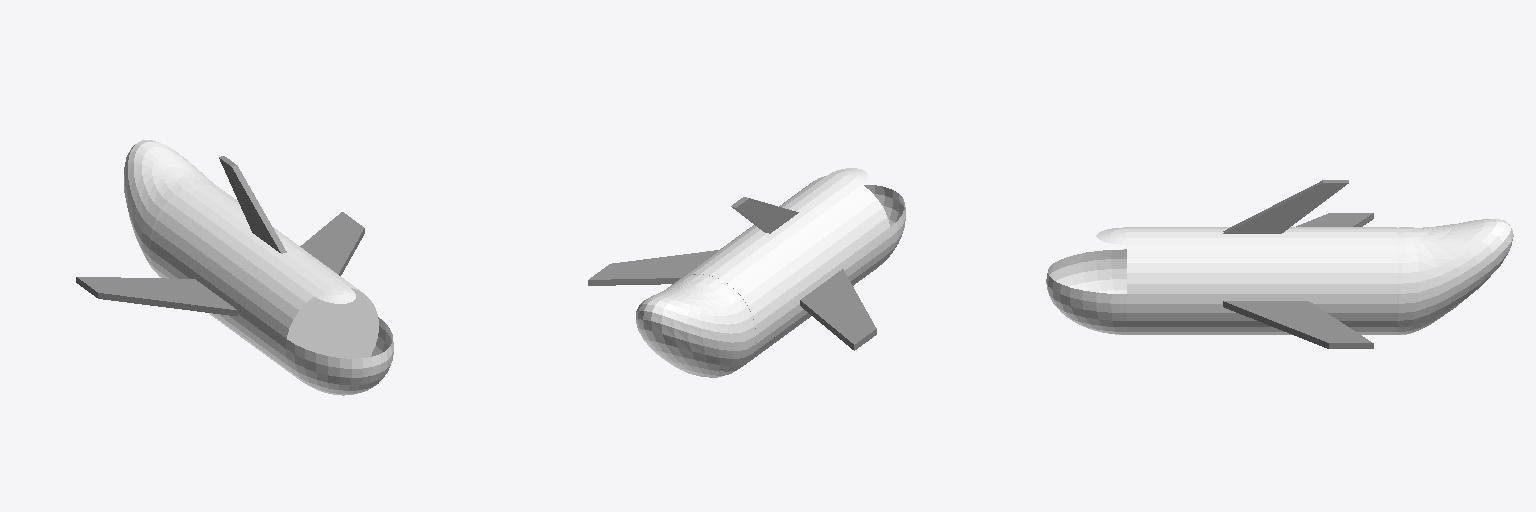
3 renders of one model, left to right at view 1: azimuth 30°, elevation 25°; view 2: azimuth 150°, elevation 25°; view 3: azimuth 270°, elevation 25°, orthographic.
Parts seen in each view (by area): view 1: CruiserBody_Cube.001; view 2: CruiserBody_Cube.001; view 3: CruiserBody_Cube.001.
Part boxes in pixels (left/top/right/bottom): CruiserBody_Cube.001: left=76, top=140, right=393, bottom=395; CruiserBody_Cube.001: left=588, top=168, right=905, bottom=377; CruiserBody_Cube.001: left=1046, top=180, right=1513, bottom=348.
Bounding box in the file's own units: 11.4 × 6.07 × 17.32.
Materials: 2 (1 with a texture image).